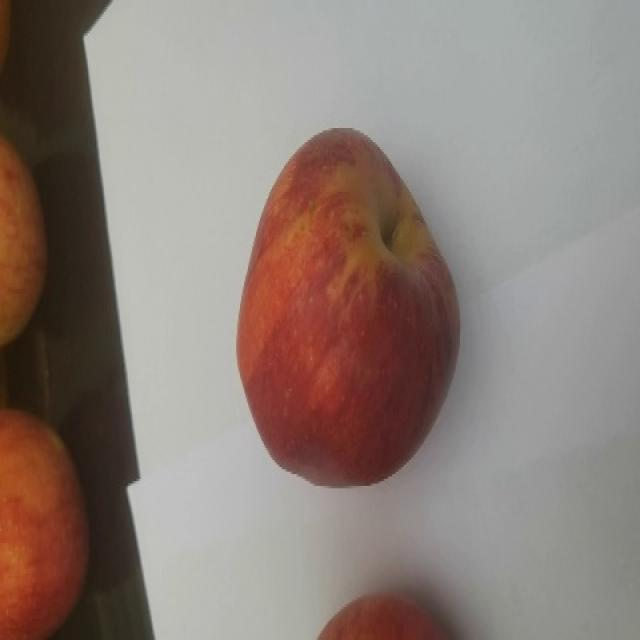Apple: (232, 126, 466, 490), (0, 410, 95, 638), (0, 132, 54, 345), (316, 591, 450, 635)
